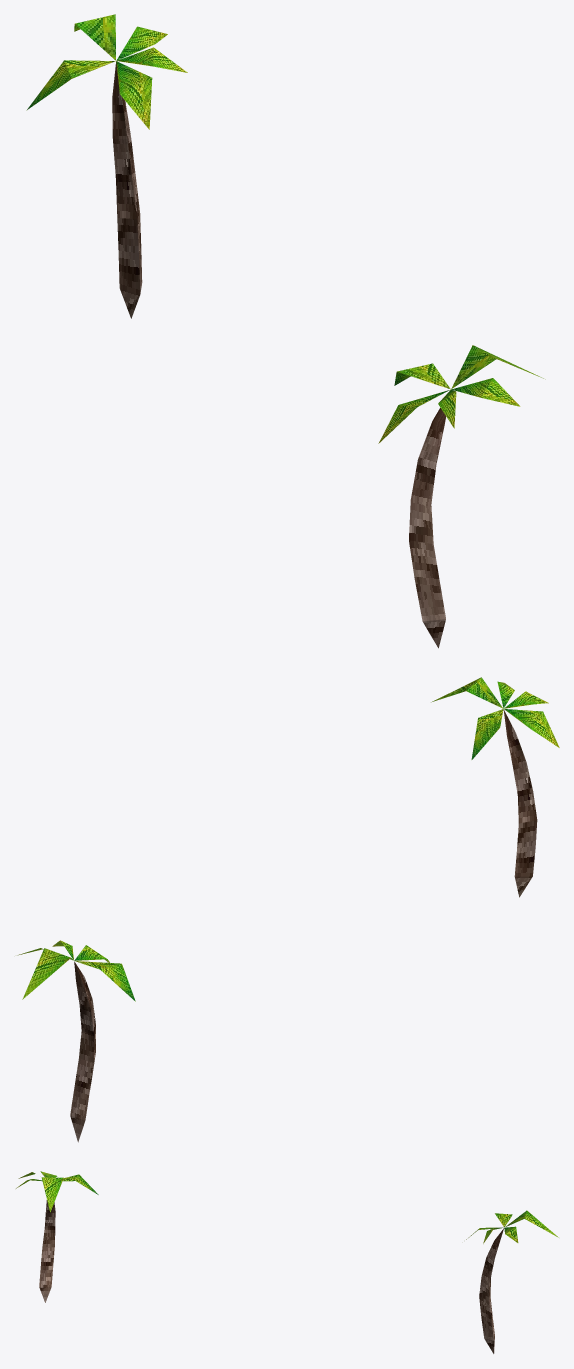
Rendered from beach-_Palm_Trees.fbx.
3 views of the same model, one above another, from view 1: azimuth 30°, elevation 25°; view 2: azimuth 150°, elevation 25°; view 3: azimuth 270°, elevation 25° (orthographic). The views are drawn at different scales.
Parts seen in each view (by area): view 1: palm tree; view 2: palm tree; view 3: palm tree.
Boxes of the visible parts, x1,y1,x2,y2 form: palm tree: (26,14,545,648); palm tree: (17,677,559,1142); palm tree: (16,1171,558,1353).
Bounding box in the file's own units: 1.07 × 3.89 × 1.23.
Materials: 2 (2 with a texture image).
